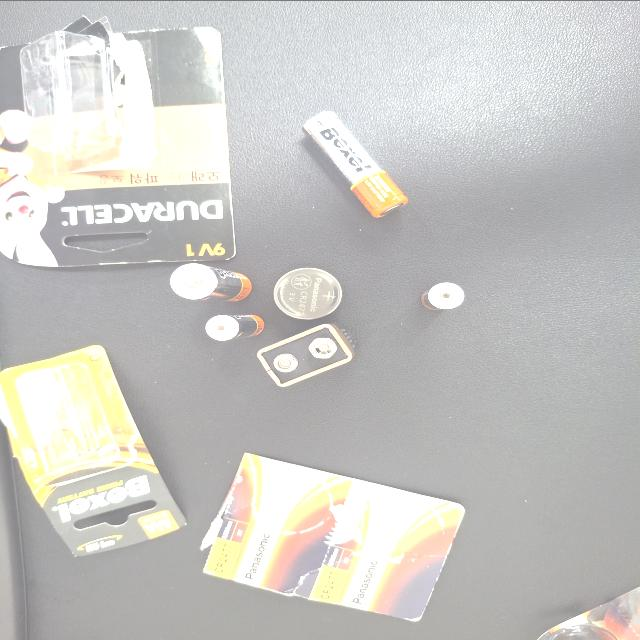9V: (339, 353, 423, 426)
AA: (564, 389, 640, 466), (454, 288, 504, 348)
AAA: (400, 314, 434, 358), (442, 476, 478, 508)
COIN: (428, 366, 498, 416)
